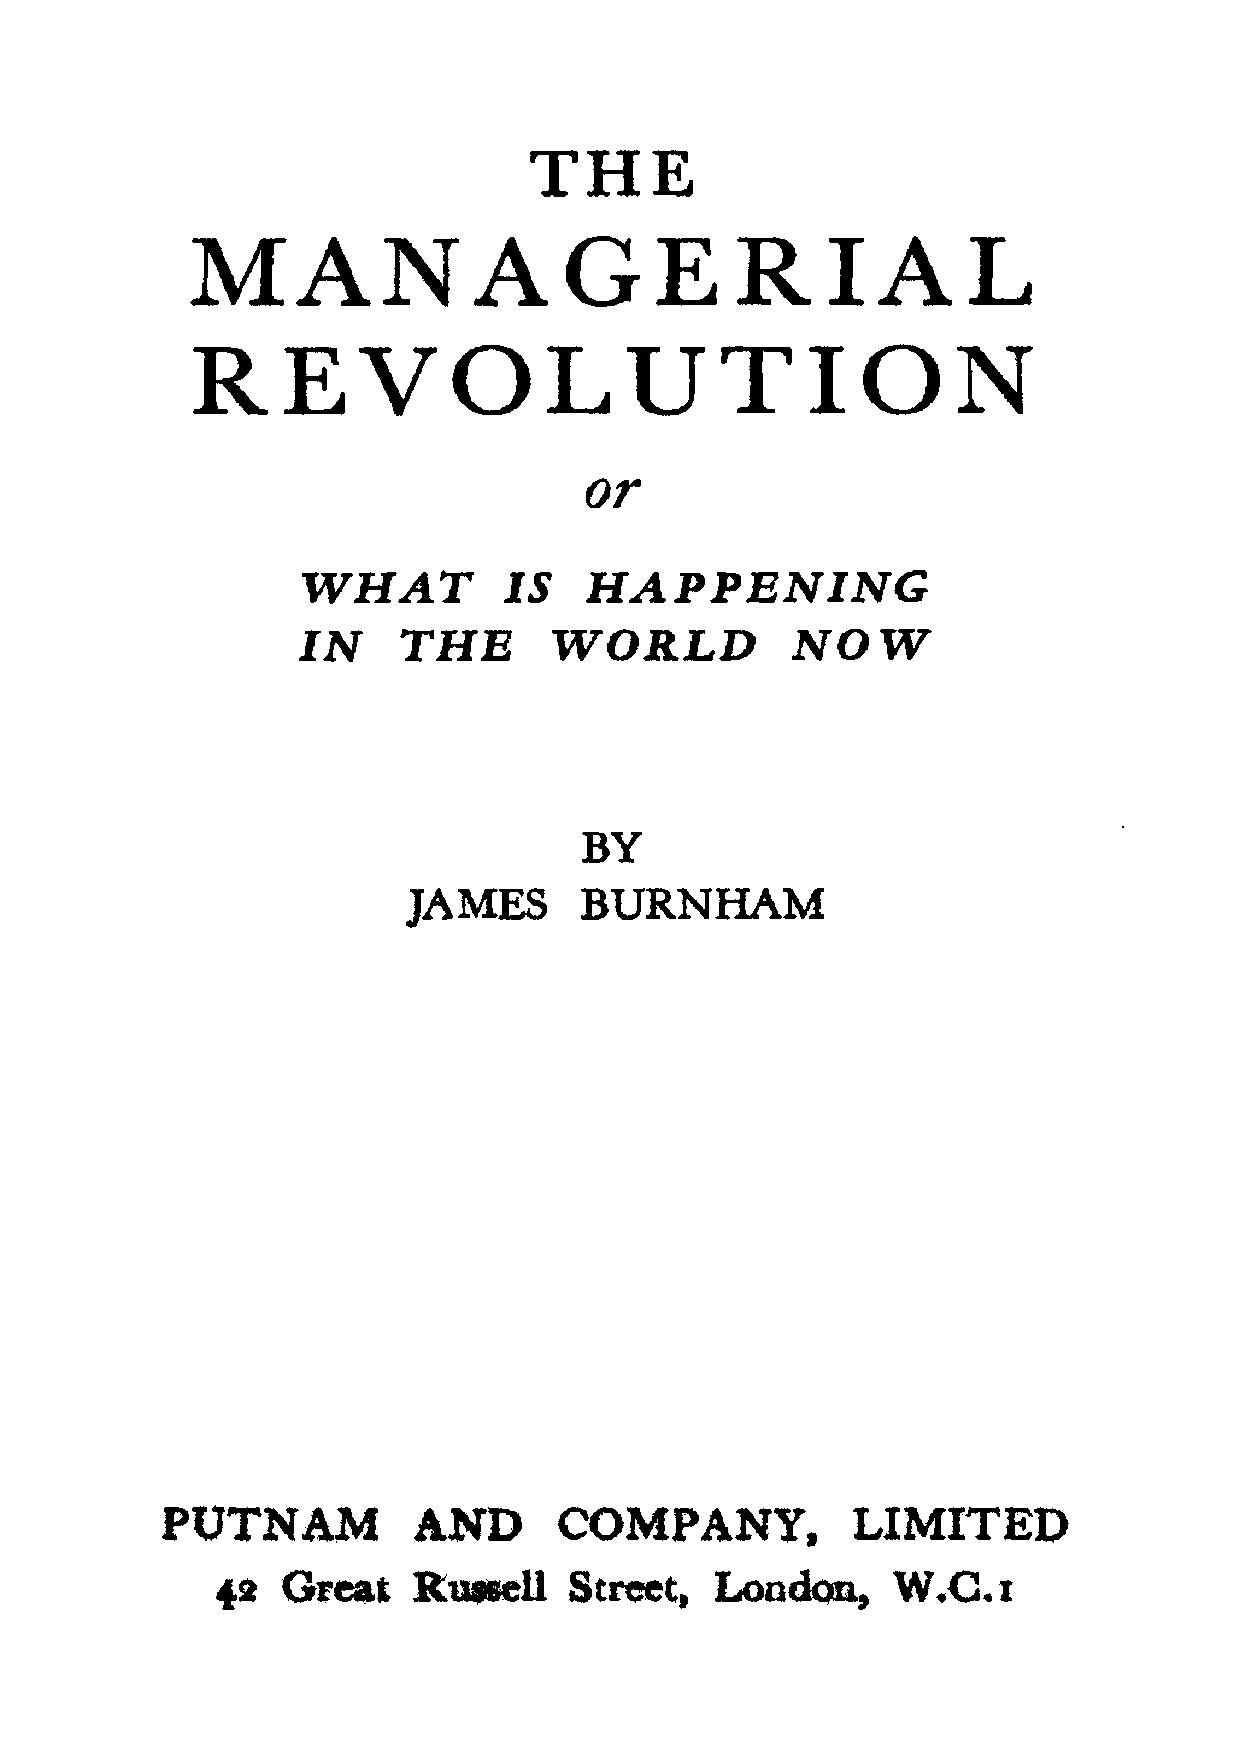author: (404, 825, 829, 933)
title: (187, 146, 1033, 666)
